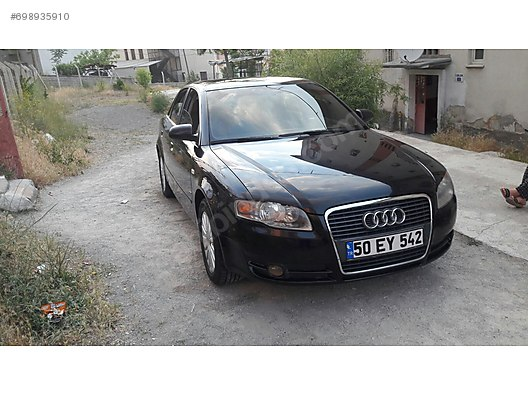audi: (361, 206, 407, 231)
